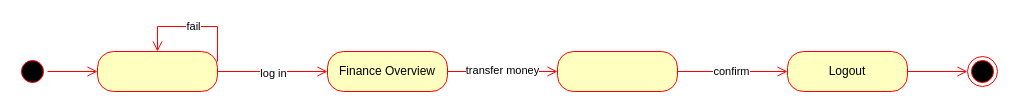
Some shapes in this 1015 by 109 pixel diagram are drawn without their labels. The shapes that lost their labels are listed below. From the top down, each one's centre as x and y in pixels, then its label:
[157,71]: Login
[617,71]: Transfer Overview
